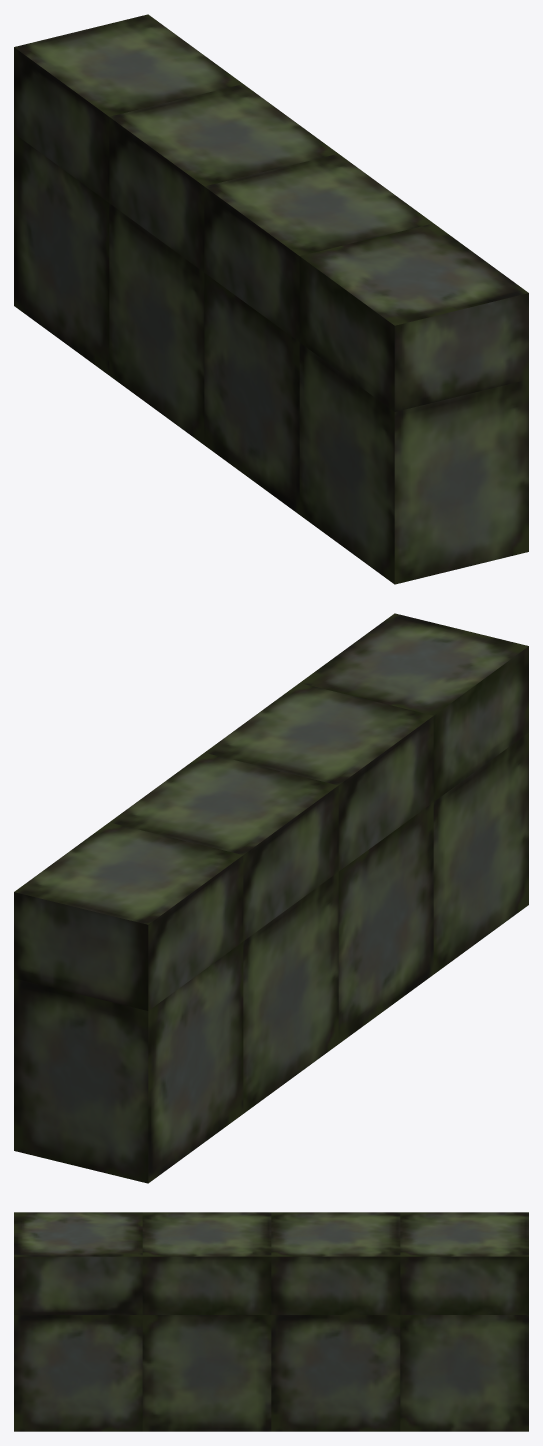
Rendered from wall-small-03.fbx.
3 renders of one model, top to bottom at view 1: azimuth 30°, elevation 25°; view 2: azimuth 150°, elevation 25°; view 3: azimuth 270°, elevation 25°, orthographic. The views are drawn at different scales.
Visible parts, largest first — view 1: wall_small_3; view 2: wall_small_3; view 3: wall_small_3.
Part boxes in pixels (box(x1,y1,x2,y2)): wall_small_3: box(14, 14, 528, 584); wall_small_3: box(14, 613, 528, 1183); wall_small_3: box(14, 1212, 528, 1431).
Size of the model in its own units: 81.41 by 150 by 400.
